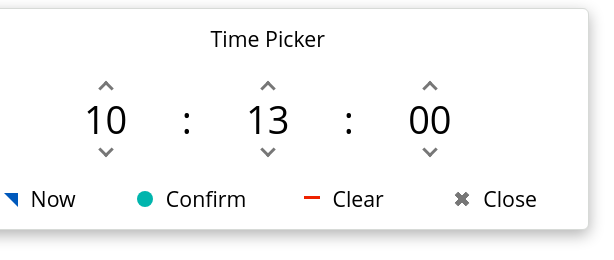
Test case: TimePickerComponent › should increase one minute if minute arrow up element was clicked
What coordinates should you click on to do the following:
click the 2nd element with class "arrow"
I would click on:
 (268, 88)
Its box is [260,81,276,96].
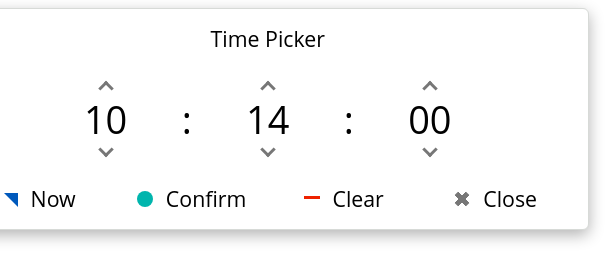
Now the list item with class "minute" reads "14", box [246,93,289,145]
